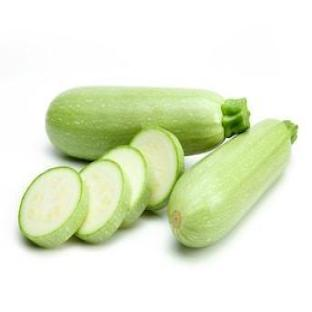Zucchini: (168, 120, 297, 247), (46, 87, 249, 159), (19, 167, 87, 248), (76, 160, 130, 242), (131, 128, 183, 209), (102, 146, 150, 226)
